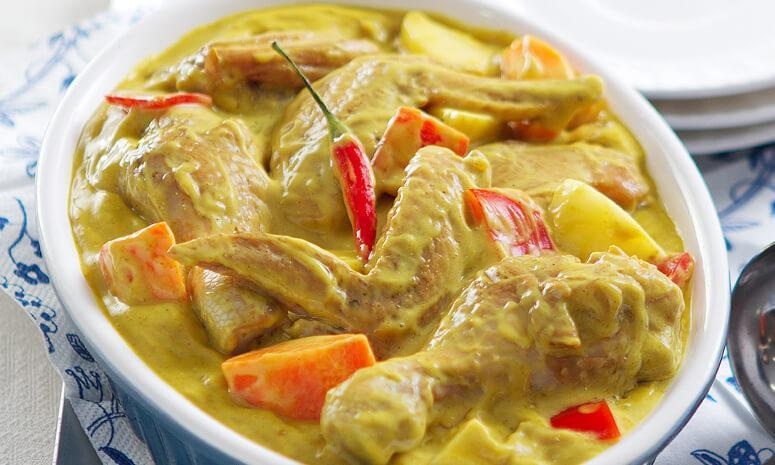chicken: (79, 0, 701, 465)
